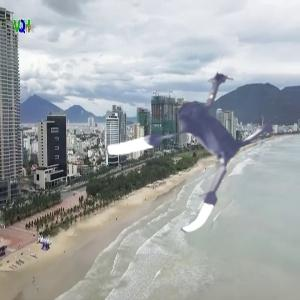drone: (100, 47, 290, 237)
